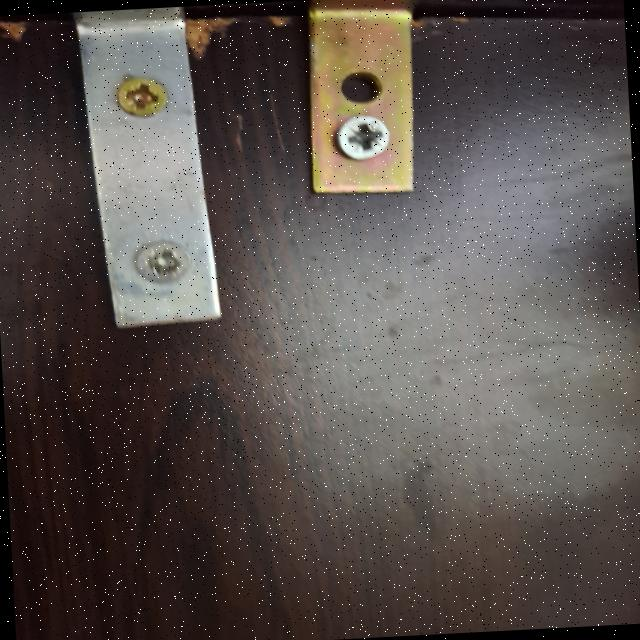Pozidriv: (126, 238, 192, 286), (342, 115, 391, 163), (119, 78, 168, 112)
